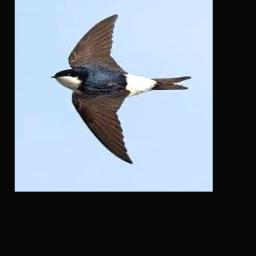Swallow: (50, 14, 192, 163)
